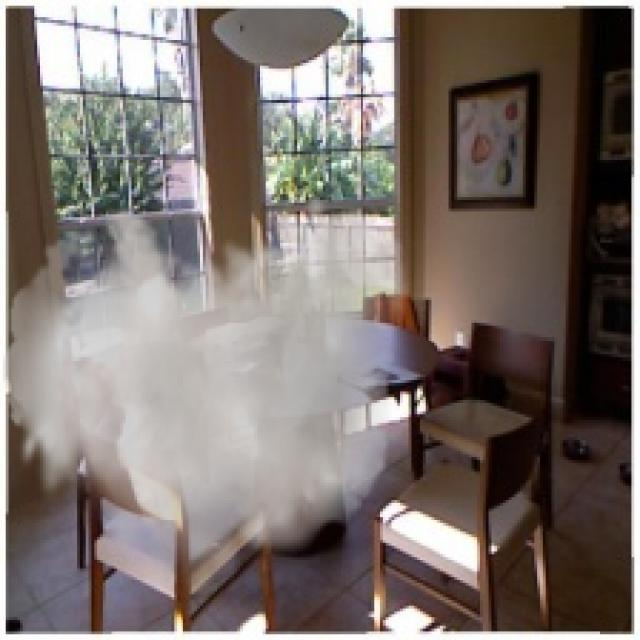smoke: (3, 192, 408, 608)
